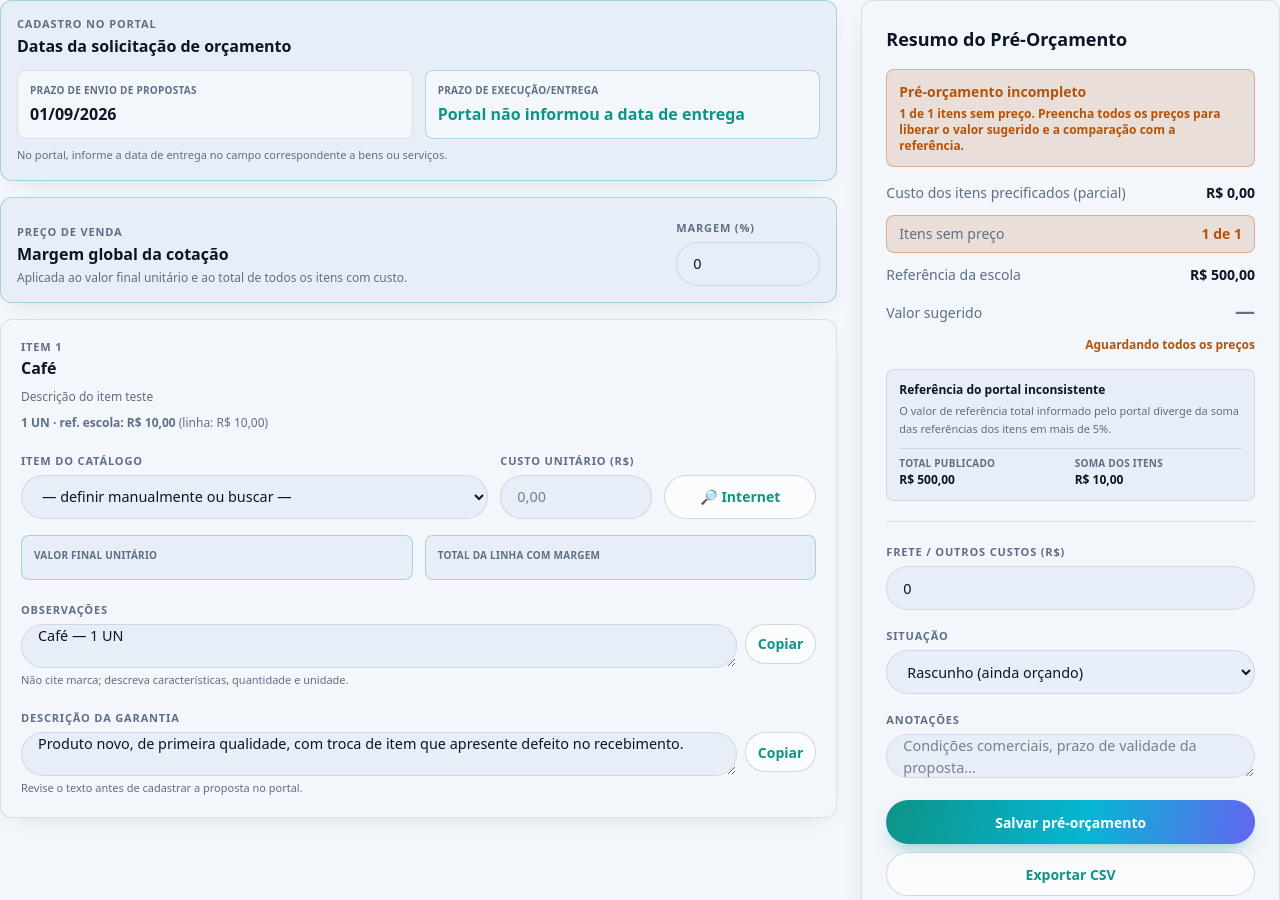
Test case: PrequoteWorksheet - Sugestões Automáticas › preenche observações do catálogo com marca removida
This screenshot has width=1280, height=900.
Select "Café Barão Tradicional 250Gr (UN) — R$ 8,90" in the dropdown labelled "Item do catálogo": [255, 496] box [21, 474, 488, 518]
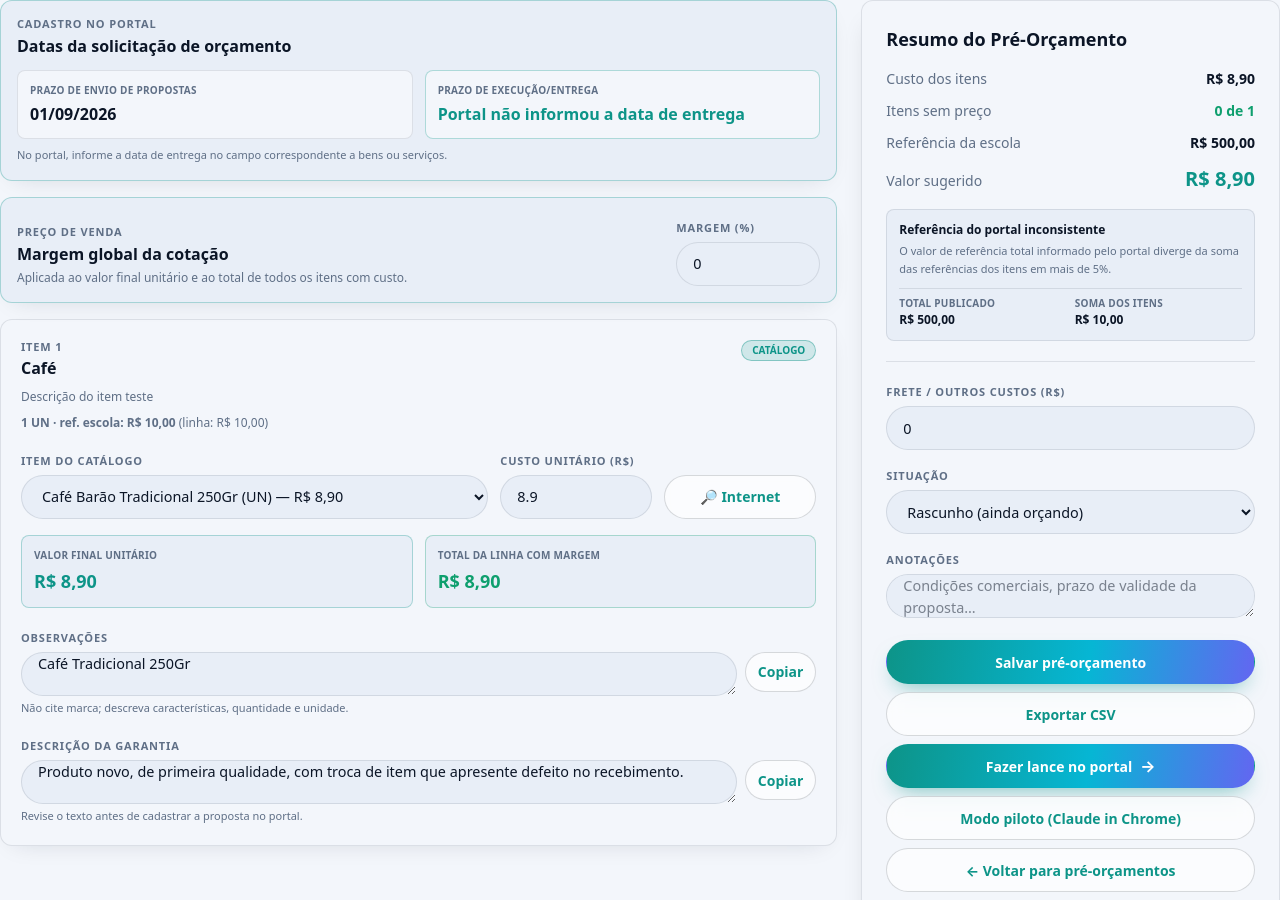
Result: the 2nd text box holds "Café Tradicional 250Gr" at [21, 652, 737, 696]
